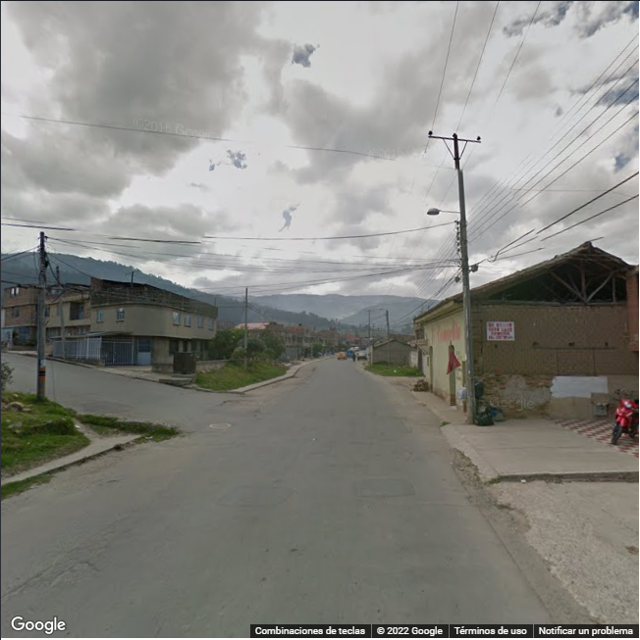D00: (4, 562, 55, 600)
D40: (69, 558, 98, 577)
